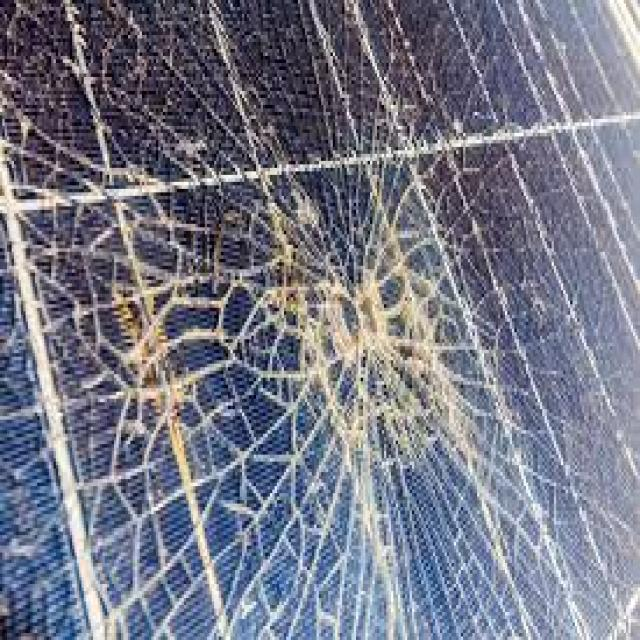faulty: (11, 0, 640, 615)
